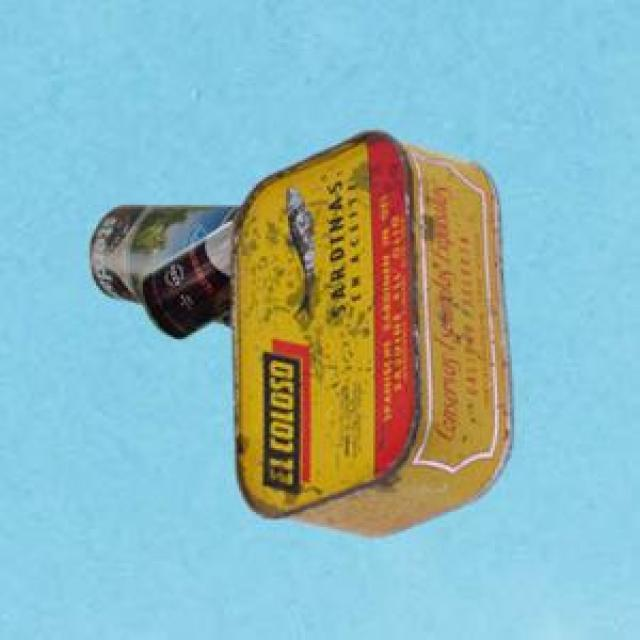logam: (227, 127, 509, 534), (86, 202, 238, 323), (140, 214, 233, 336)
